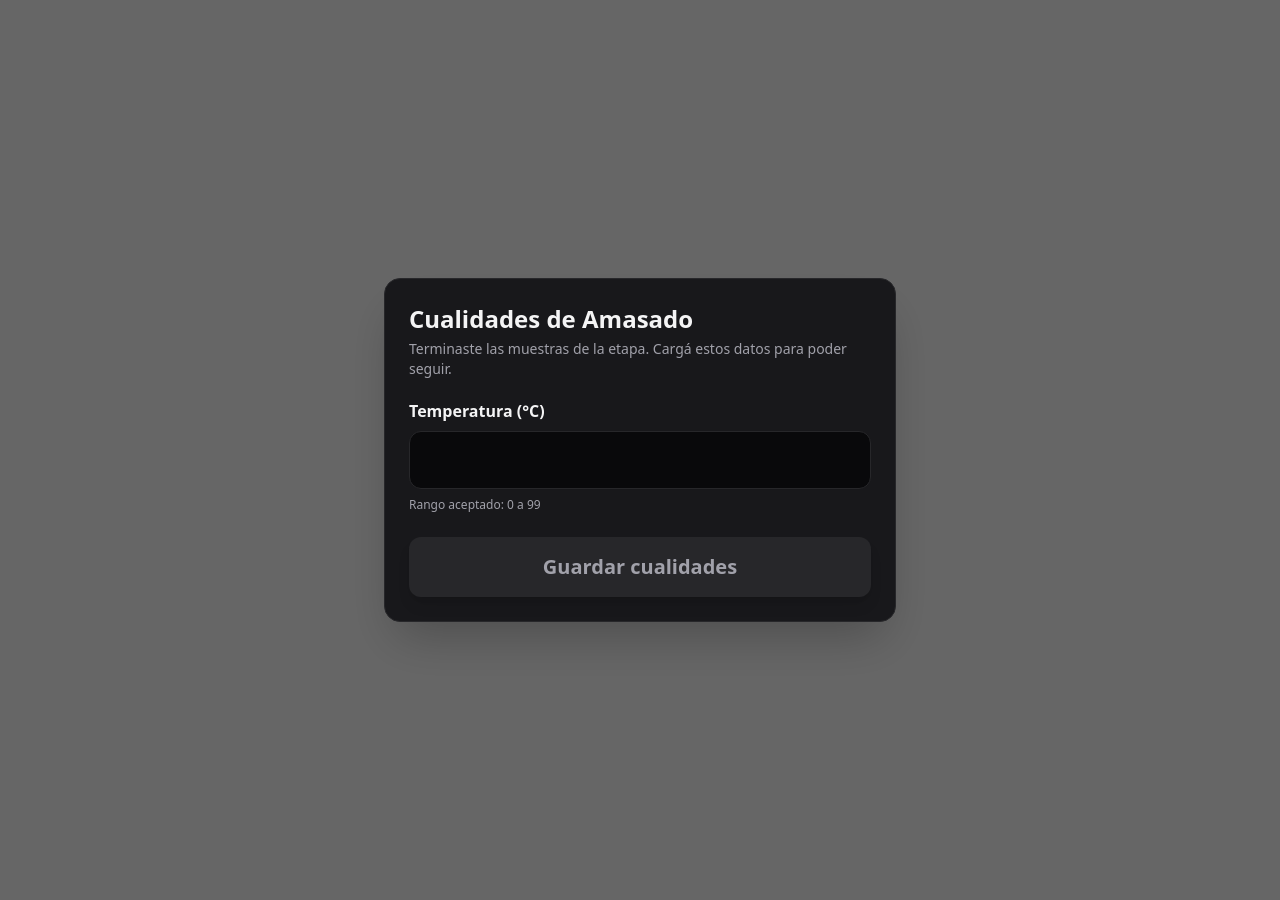
Scenario: CualidadesDialog › warns about an out-of-range number without blocking the save
Later steps or results of the test are not shown.
Type "120" into the number field named "Temperatura (°C)". click: (640,460)
box: [409,431,871,489]
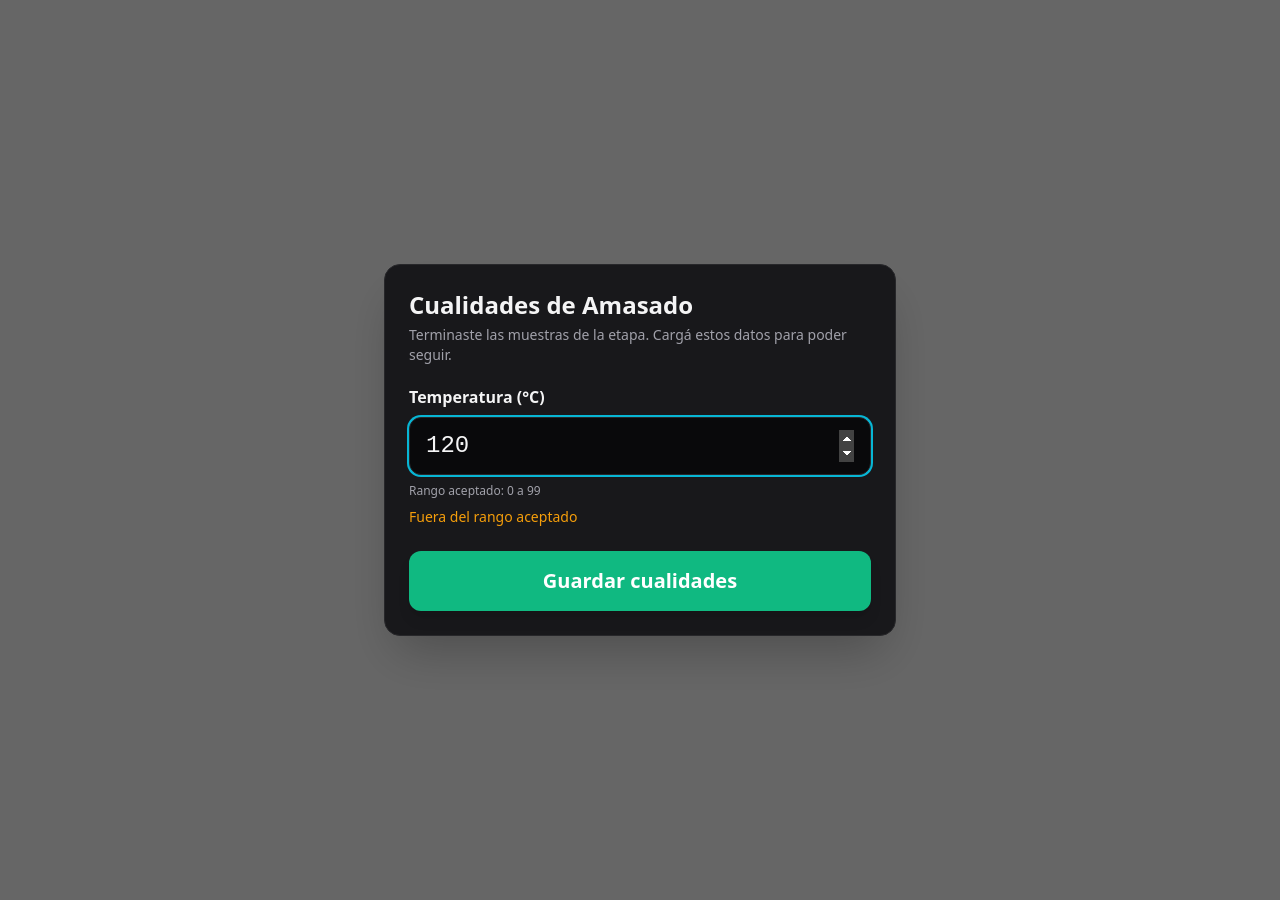
Now the message reads "Fuera del rango aceptado", box [409,507,577,526]
Now the button "Guardar cualidades" is enabled, box [409,551,871,611]
